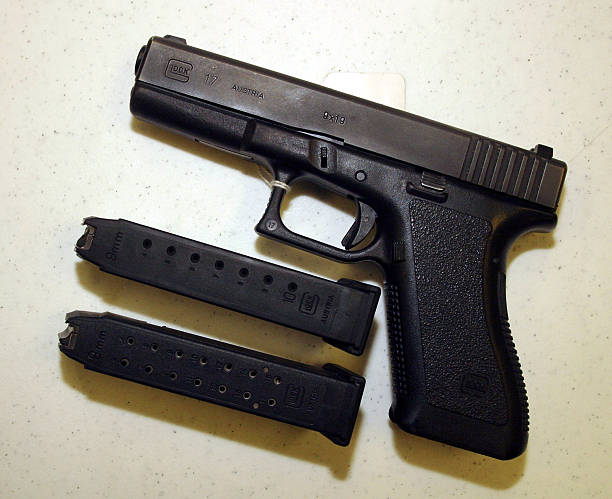pistol: (124, 20, 579, 475)
